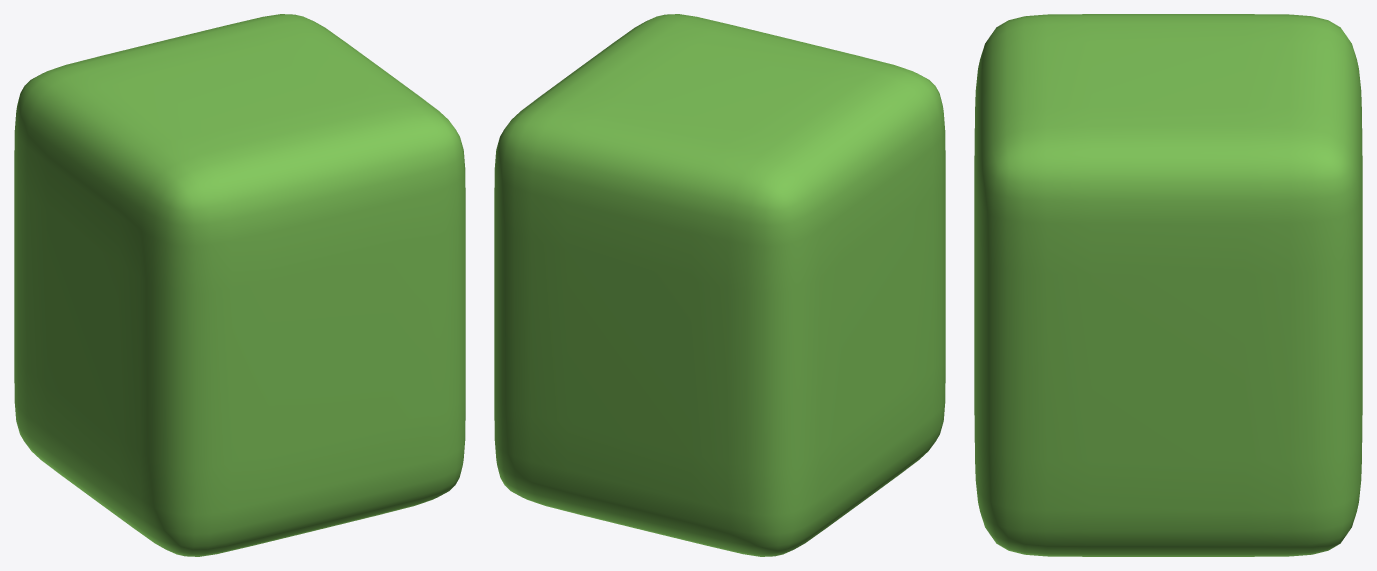
File: SM_Hedge_Straight.fbx
3 renders of one model, left to right at view 1: azimuth 30°, elevation 25°; view 2: azimuth 150°, elevation 25°; view 3: azimuth 270°, elevation 25°, orthographic. The views are drawn at different scales.
Visible parts, largest first — view 1: SM_Hedge_Straight; view 2: SM_Hedge_Straight; view 3: SM_Hedge_Straight.
Boxes of the visible parts, box(x1,y1,x2,y2) form: SM_Hedge_Straight: box(14, 14, 465, 556); SM_Hedge_Straight: box(494, 14, 945, 556); SM_Hedge_Straight: box(974, 14, 1362, 556).
Bounding box in the file's own units: 95.96 × 115 × 95.96.
